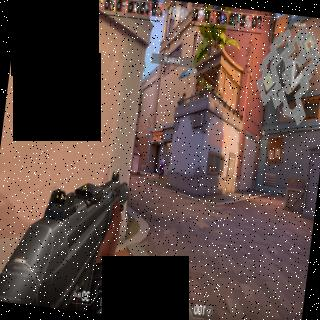ENEMY-BODY: (158, 157, 166, 181)
ENEMY-HEAD: (162, 158, 165, 162)
